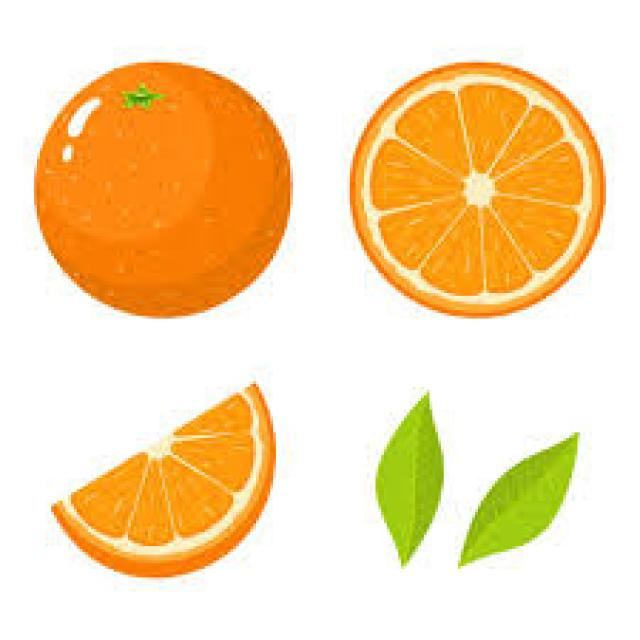orange: (26, 59, 322, 333)
